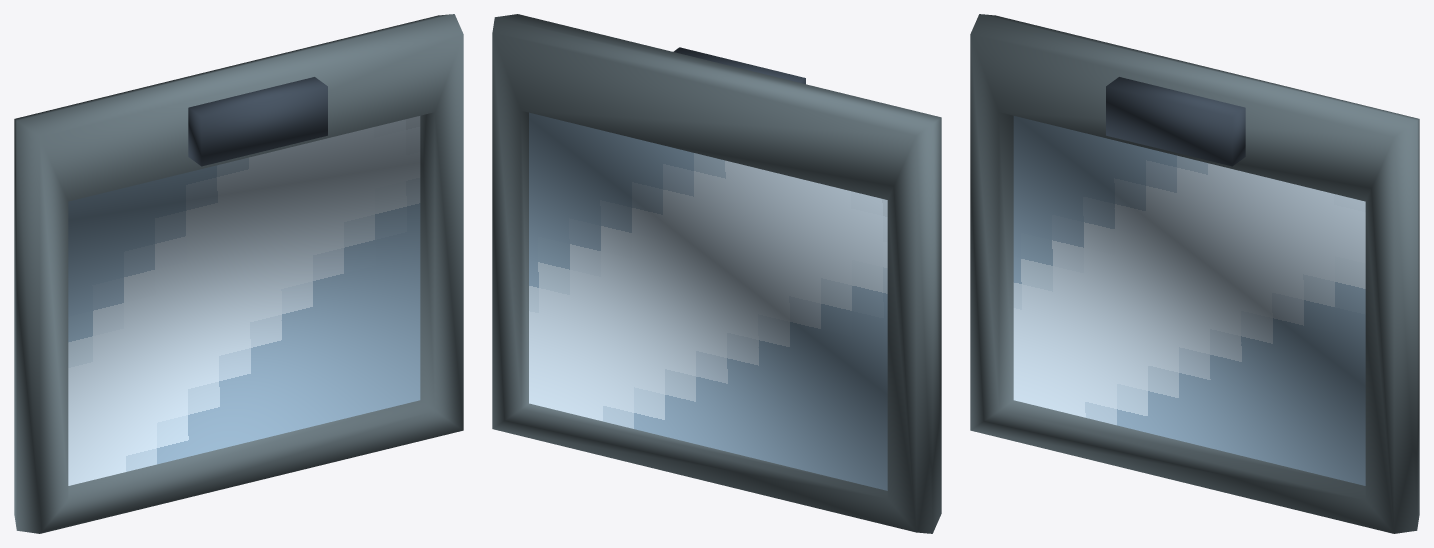
File: OvenDoor_kitchen_v1.fbx
The picture shows the model from 3 angles, left to right: view 1: azimuth 30°, elevation 25°; view 2: azimuth 150°, elevation 25°; view 3: azimuth 330°, elevation 25°; orthographic projection.
Visible parts, largest first — view 1: Cube.001, Cube.003; view 2: Cube.001, Cube.003; view 3: Cube.001, Cube.003.
Boxes of the visible parts, x1,y1,x2,y2 form: Cube.001: (14,14,463,533); Cube.003: (188,77,327,166); Cube.001: (492,14,941,533); Cube.003: (673,47,805,84); Cube.001: (970,14,1419,533); Cube.003: (1106,77,1245,166).
Bounding box in the file's own units: 75.3 × 67.34 × 11.42.
